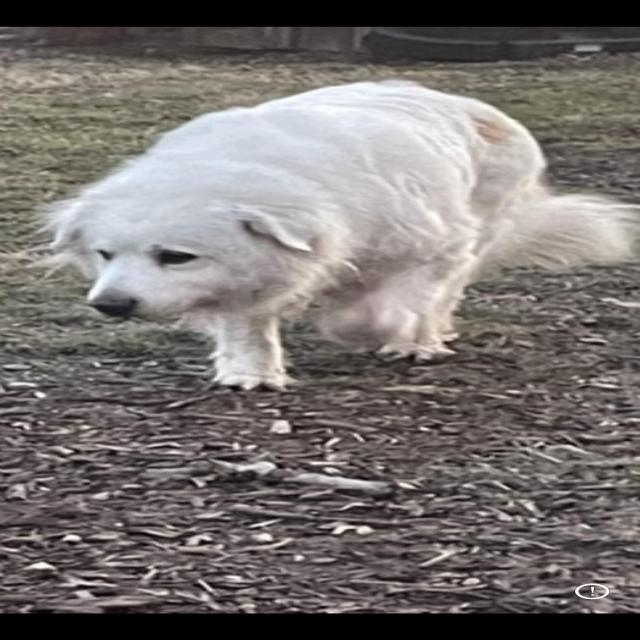golden_retriever_dog: (31, 158, 361, 341)
